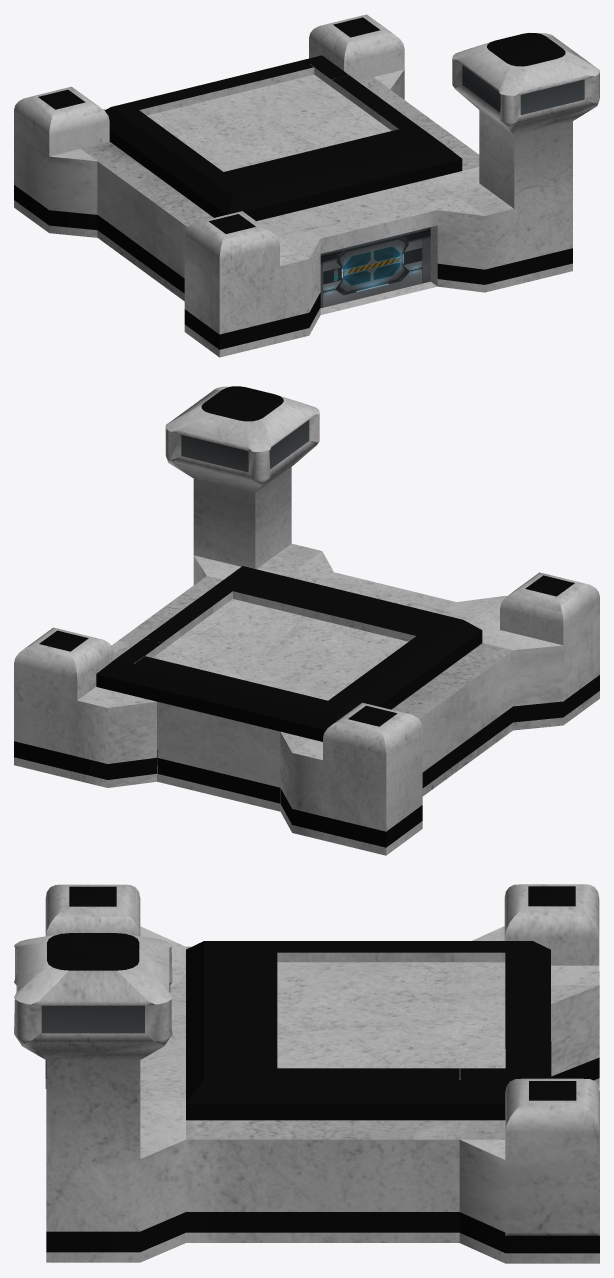
The model's file is bunkertext.fbx.
3 views of the same model, one above another, from view 1: azimuth 30°, elevation 25°; view 2: azimuth 150°, elevation 25°; view 3: azimuth 270°, elevation 25° (orthographic). The views are drawn at different scales.
Parts seen in each view (by area): view 1: pCube1; view 2: pCube1; view 3: pCube1.
Boxes of the visible parts, <box> form: pCube1: <box>14,14,599,357</box>; pCube1: <box>14,386,599,855</box>; pCube1: <box>14,884,599,1263</box>.
Size of the model in its own units: 25.57 by 14.09 by 25.68.
5 materials, 1 textured.
